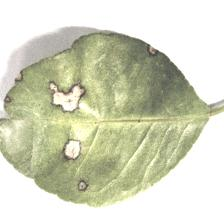canker: (3, 37, 163, 198)
